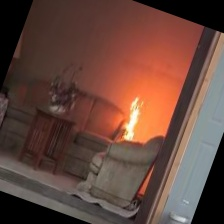fire: (108, 86, 155, 150)
